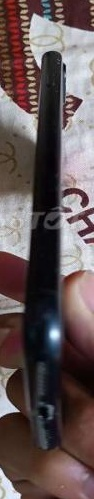scratch: (32, 414, 54, 453), (52, 55, 65, 67)
